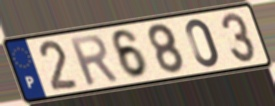0: (184, 17, 221, 69)
2: (39, 38, 82, 93)
3: (220, 11, 258, 64)
6: (109, 27, 151, 81)
8: (147, 21, 186, 75)
R: (66, 32, 121, 88)
